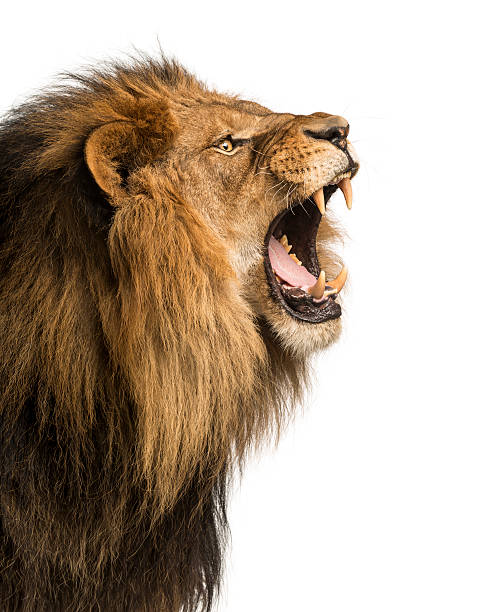lion: (1, 44, 414, 612)
